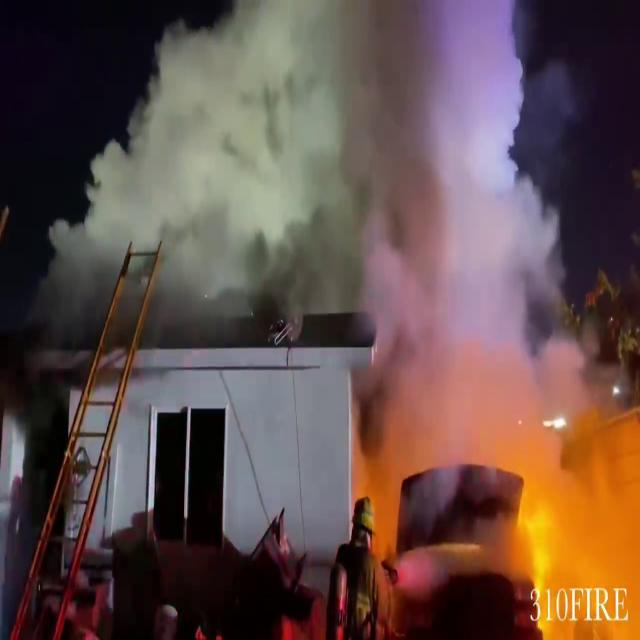Smoke: (58, 1, 586, 393)
